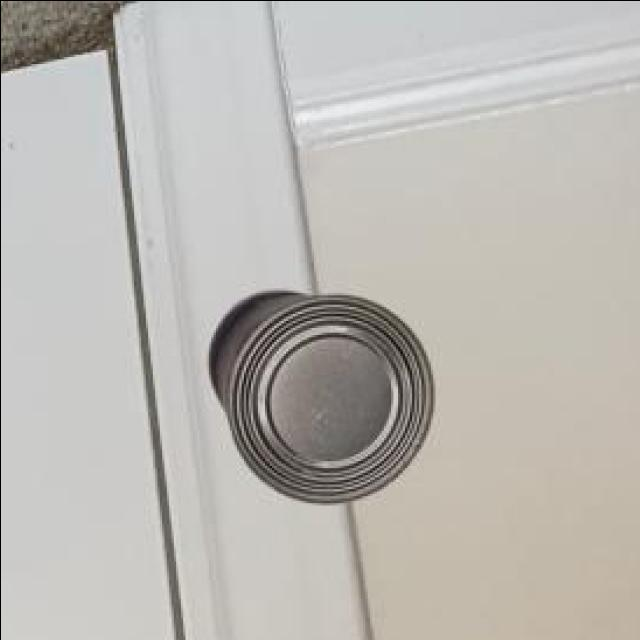logam: (211, 293, 436, 506)
